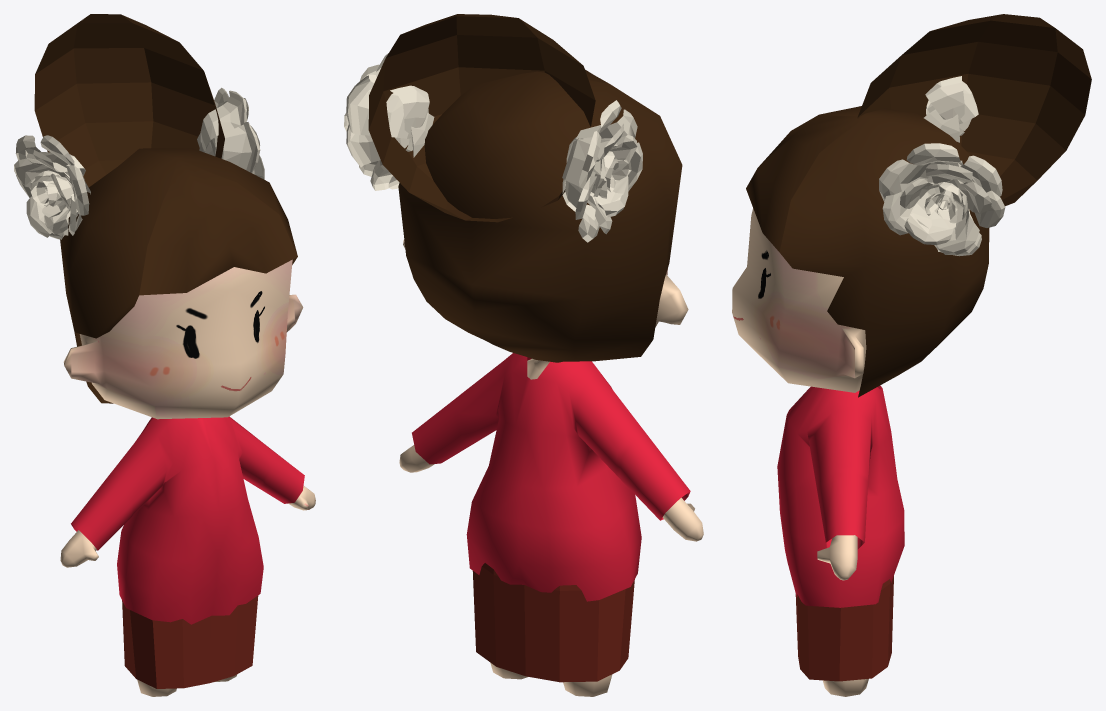
File: nenek kebayan.glb
3 renders of one model, left to right at view 1: azimuth 30°, elevation 25°; view 2: azimuth 150°, elevation 25°; view 3: azimuth 270°, elevation 25°, orthographic. The views are drawn at different scales.
Visible parts, largest first — view 1: Chibi_base.001, Chibi_base.003, Chibi_base.002, Plane.014, Chibi_base.004; view 2: Chibi_base.001, Chibi_base.003, Chibi_base.004, Plane.014, Chibi_base.002; view 3: Chibi_base.001, Chibi_base.003, Chibi_base.002, Plane.014, Chibi_base.004.
Part boxes in pixels (x1,y1,x2,y2): Chibi_base.001: (34, 14, 297, 403); Chibi_base.003: (71, 416, 304, 624); Chibi_base.002: (60, 259, 315, 696); Plane.014: (14, 87, 264, 239); Chibi_base.004: (122, 595, 258, 688); Chibi_base.001: (368, 14, 682, 362); Chibi_base.003: (412, 353, 690, 601); Chibi_base.004: (472, 563, 634, 682); Plane.014: (344, 53, 642, 242); Chibi_base.002: (399, 239, 703, 696); Chibi_base.001: (746, 14, 1091, 397); Chibi_base.003: (777, 385, 904, 607); Chibi_base.002: (732, 208, 868, 696); Plane.014: (879, 76, 1005, 256); Chibi_base.004: (795, 576, 893, 681).
Size of the model in its own units: 1.68 by 3.85 by 1.92.
5 materials, 1 textured.
